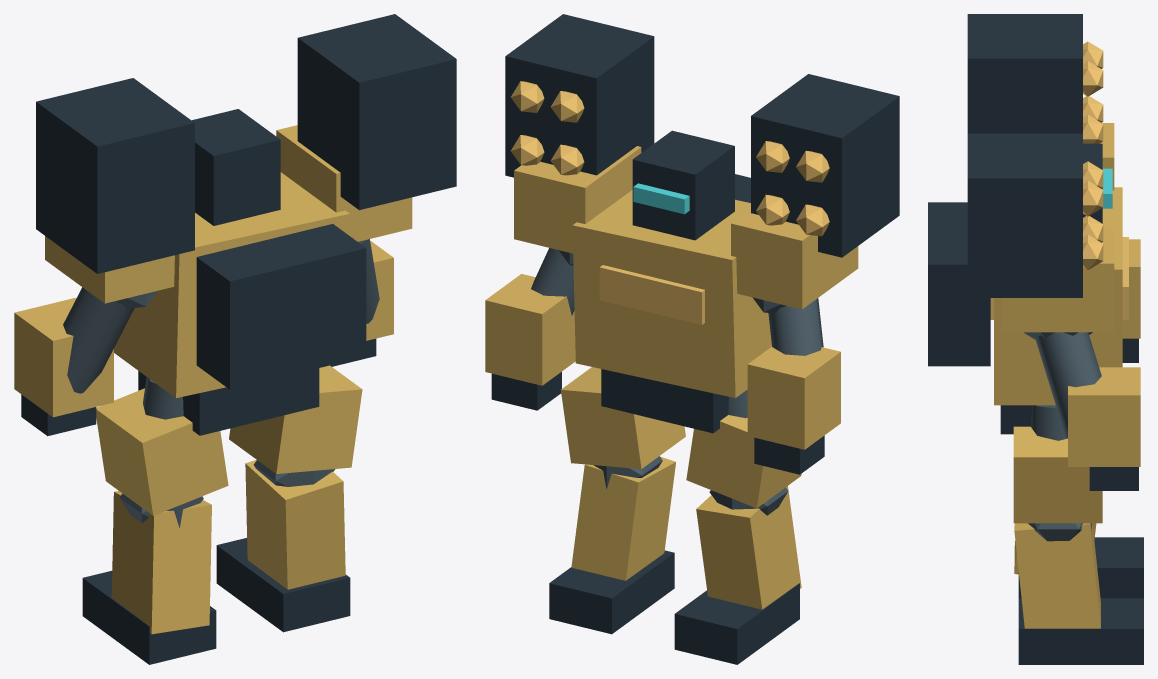
Rendered from frame-iskander.glb.
The picture shows the model from 3 angles, left to right: view 1: azimuth 30°, elevation 25°; view 2: azimuth 150°, elevation 25°; view 3: azimuth 270°, elevation 25°; orthographic projection. The views are drawn at different scales.
Visible parts, largest first — view 1: frame-iskander; view 2: frame-iskander; view 3: frame-iskander.
Boxes of the visible parts, left/top/right/bottom form: frame-iskander: left=14, top=14, right=456, bottom=664; frame-iskander: left=485, top=14, right=899, bottom=664; frame-iskander: left=928, top=14, right=1143, bottom=664.
Size of the model in its own units: 1.18 by 1.75 by 0.655.
